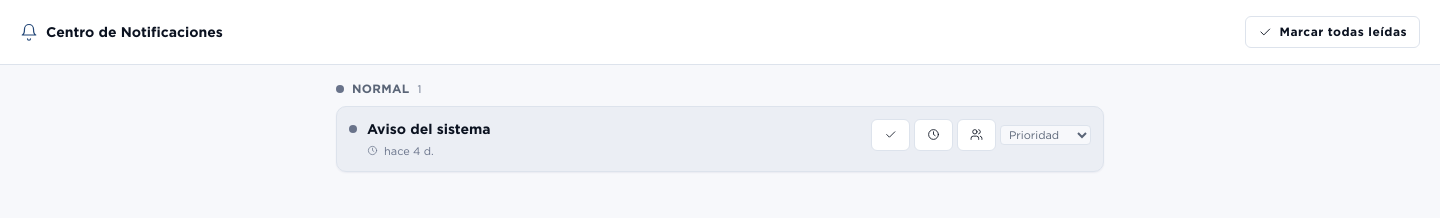
it: NotificationCenter · el botón de marcación masiva no promete lo que no puede › muestra el error visible que devuelve la acción, sin éxito silencioso
The width and height of the screenshot is (1440, 218).
Click the button "Marcar todas leídas" at (1332, 32), box [1244,16,1420,48]
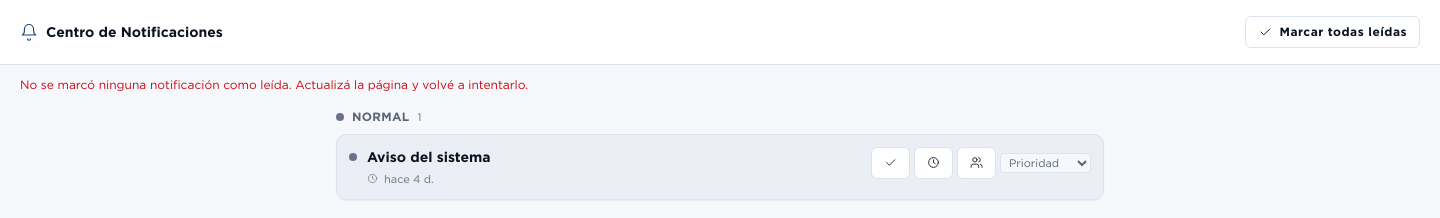
Check: the text "No se marcó ninguna notificación como leída." is shown, box [20,78,528,91]
